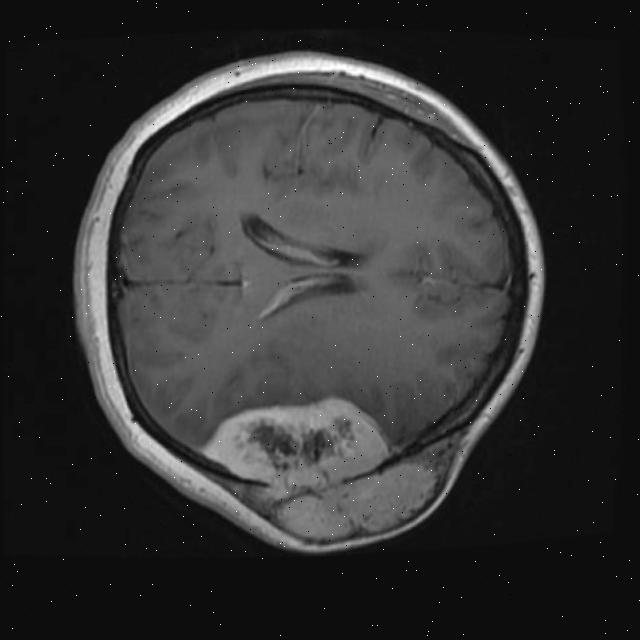Meningioma: (198, 389, 440, 548)
